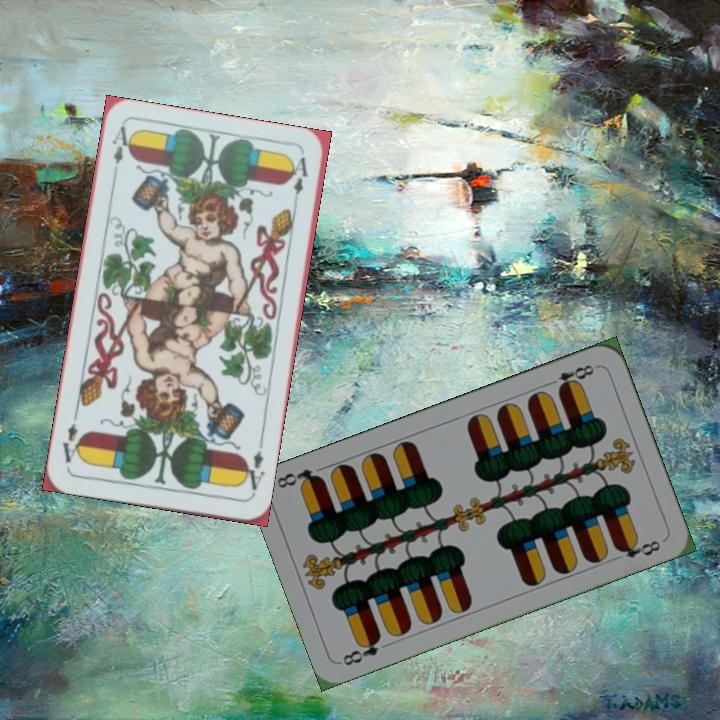E8: (542, 360, 600, 394), (338, 631, 384, 668)
EA: (238, 439, 267, 498), (107, 122, 135, 181)
